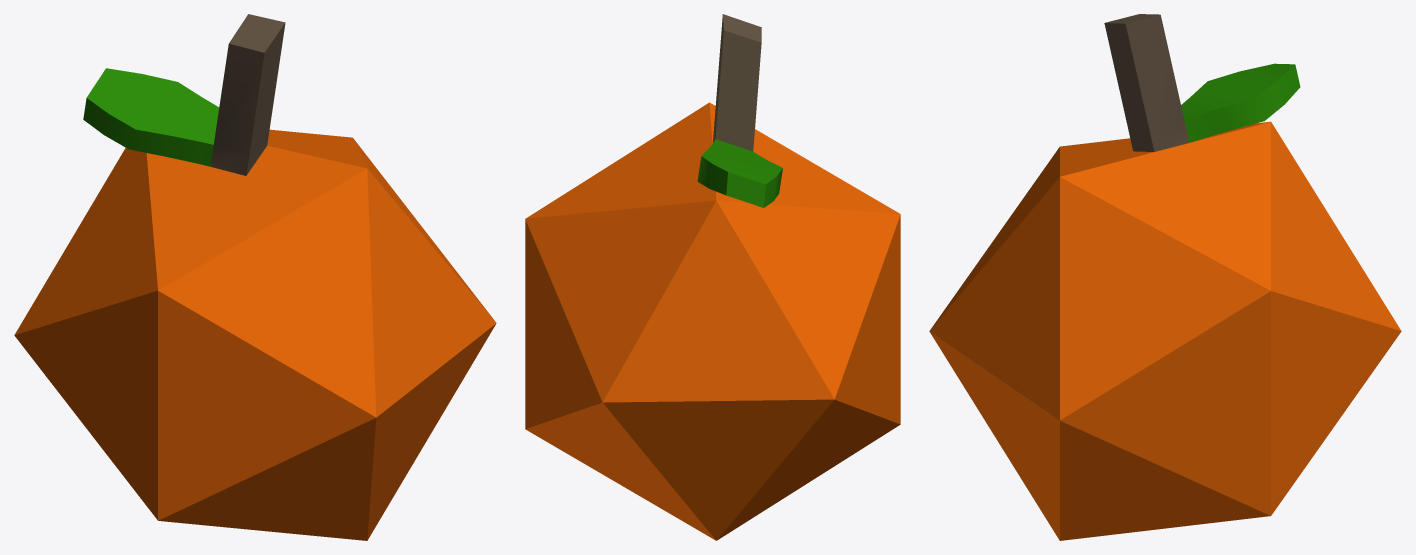
File: OrangeFruit.fbx
3 views of the same model, side by side, from view 1: azimuth 30°, elevation 25°; view 2: azimuth 150°, elevation 25°; view 3: azimuth 270°, elevation 25° (orthographic). The views are drawn at different scales.
Visible parts, largest first — view 1: pPlatonic1.005, pPlatonic1.003, pPlatonic1.004; view 2: pPlatonic1.005, pPlatonic1.004, pPlatonic1.003; view 3: pPlatonic1.005, pPlatonic1.004, pPlatonic1.003.
Boxes of the visible parts, <box> form: pPlatonic1.005: <box>14,129,496,540</box>; pPlatonic1.003: <box>83,68,219,166</box>; pPlatonic1.004: <box>210,14,285,175</box>; pPlatonic1.005: <box>525,102,900,540</box>; pPlatonic1.004: <box>713,14,761,151</box>; pPlatonic1.003: <box>697,139,782,207</box>; pPlatonic1.005: <box>929,121,1401,540</box>; pPlatonic1.004: <box>1104,14,1189,151</box>; pPlatonic1.003: <box>1181,63,1300,142</box>.
Size of the model in its own units: 52.15 by 67.32 by 58.31.
